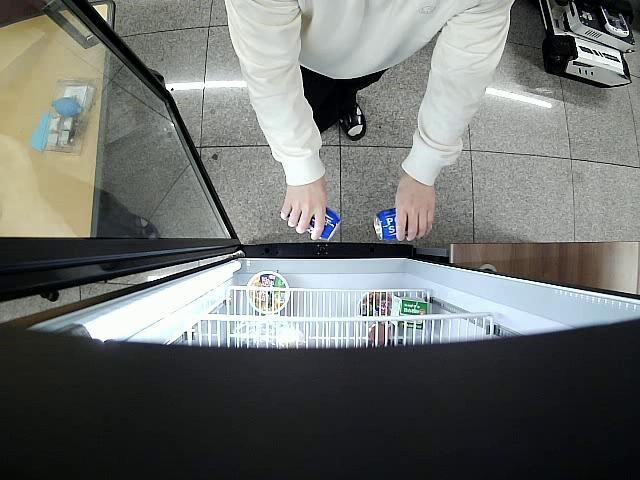13_pocariSweat: (284, 200, 342, 243), (372, 208, 431, 242)
